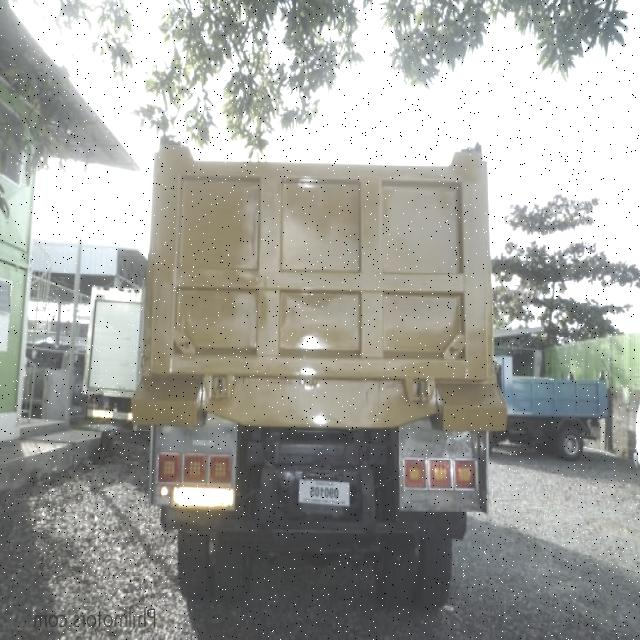truck: (132, 132, 507, 598)
